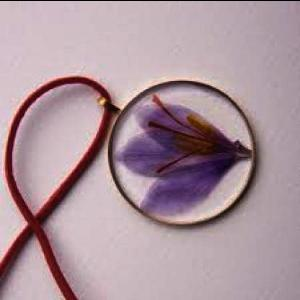Saffron: (118, 95, 256, 218)
